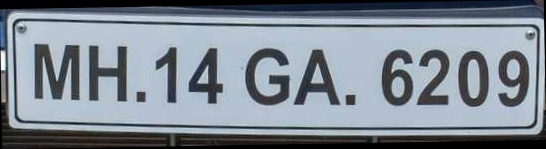character: (31, 39, 80, 101), (243, 45, 291, 106), (292, 47, 341, 106), (86, 41, 127, 103), (189, 46, 224, 106), (380, 47, 413, 109), (415, 48, 450, 106), (456, 49, 490, 108), (497, 49, 529, 108), (155, 43, 177, 105)
